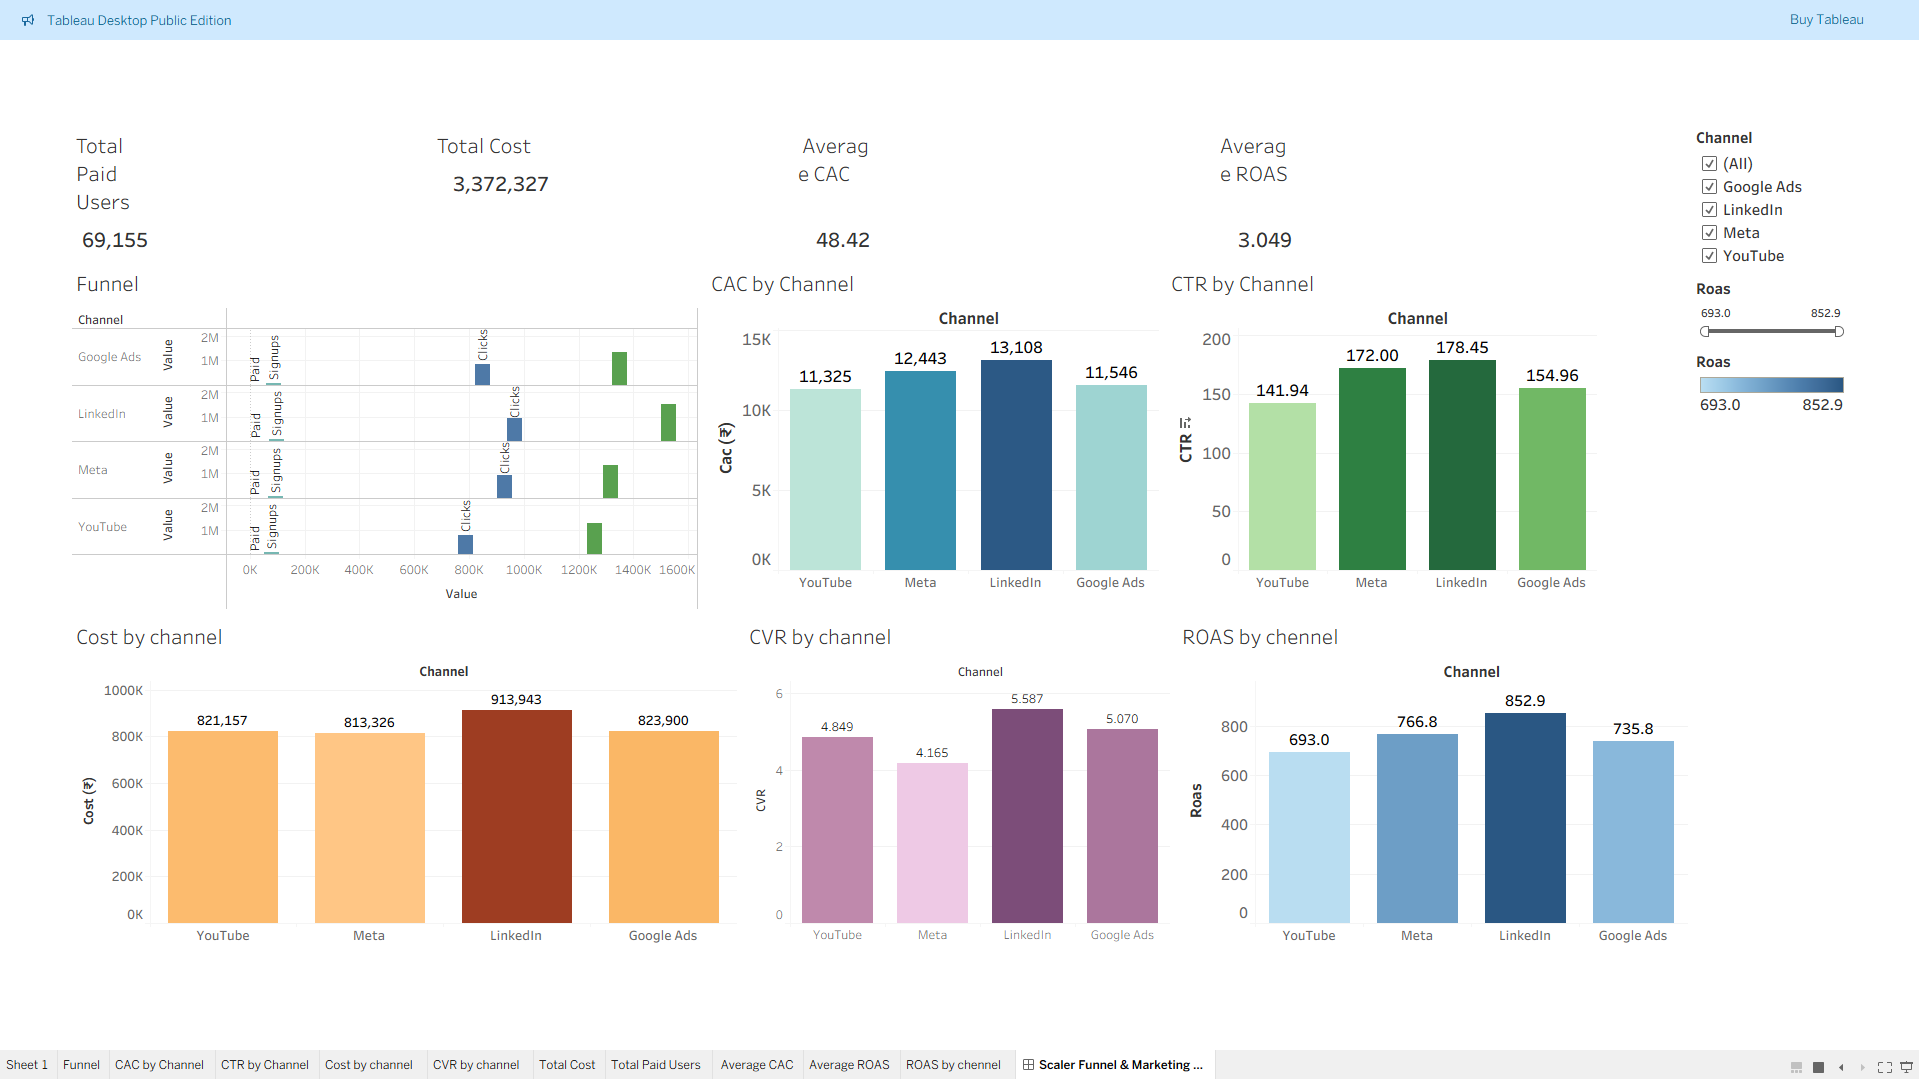

What the dashboard file says about the page in this screenshot:
{"tool":"tableau","page":{"name":"Scaler Funnel & Marketing Analytics Dashboard","canvas":[1000,1000],"units":"permille","ordinal":0},"visuals":[{"type":"worksheet","title":"Total Paid Users","mark":"Automatic","box":[4.7,9.3,199.3,160]},{"type":"worksheet","title":"Total Cost","mark":"Automatic","box":[204,9.3,199.3,160]},{"type":"worksheet","title":" Average CAC","mark":"Automatic","box":[403.3,9.3,233.4,160]},{"type":"worksheet","title":"Average ROAS","mark":"Automatic","box":[636.7,9.3,265,160]},{"type":"filter","title":"ROAS by chennel ","param":"[federated.195o4id0vjbwo1118oil50ntmcbx].[none:Channel:nk]","box":[901.7,9.3,93.6,176.4]},{"type":"worksheet","title":"Funnel","mark":"Bar","rows":["Channel"],"box":[4.7,169.4,371.6,410.6]},{"type":"worksheet","title":"CAC by Channel","mark":"Automatic","rows":["CAC (₹)"],"cols":["Channel"],"box":[376.2,169.4,269.2,410.6]},{"type":"worksheet","title":"CTR by Channel","mark":"Automatic","rows":["CTR"],"cols":["Channel"],"box":[645.4,169.4,256.3,410.6]},{"type":"filter","title":"ROAS by chennel ","param":"[federated.195o4id0vjbwo1118oil50ntmcbx].[sum:ROAS:qk]","box":[901.7,185.8,93.6,85.3]},{"type":"legend","title":"ROAS by chennel ","param":"[federated.195o4id0vjbwo1118oil50ntmcbx].[sum:ROAS:qk]","box":[901.7,271,93.6,85.3]},{"type":"worksheet","title":"Cost by channel ","mark":"Automatic","rows":["Cost (₹)"],"cols":["Channel"],"box":[4.7,580,371.5,410.7]},{"type":"worksheet","title":"CVR by channel ","mark":"Automatic","rows":["CVR"],"cols":["Channel"],"box":[376.2,580,253.4,410.7]},{"type":"worksheet","title":"ROAS by chennel ","mark":"Automatic","rows":["ROAS"],"cols":["Channel"],"box":[629.6,580,272.1,410.7]}]}

Visuals, with their boxes on the dashboard's canvas, which has no fixed pixel size, in thousandths of its width and height (x1, y1, x2, y2). These are canvas units, not pixel positions in the 1919x1079 screenshot, which may show the page scaled, cropped or inside an application window:
"Total Paid Users" worksheet: detection(5, 9, 204, 169)
"Total Cost" worksheet: detection(204, 9, 403, 169)
" Average CAC" worksheet: detection(403, 9, 637, 169)
"Average ROAS" worksheet: detection(637, 9, 902, 169)
"ROAS by chennel " filter: detection(902, 9, 995, 186)
"Funnel" worksheet (Bar marks): detection(5, 169, 376, 580)
"CAC by Channel" worksheet: detection(376, 169, 645, 580)
"CTR by Channel" worksheet: detection(645, 169, 902, 580)
"ROAS by chennel " filter: detection(902, 186, 995, 271)
"ROAS by chennel " legend: detection(902, 271, 995, 356)
"Cost by channel " worksheet: detection(5, 580, 376, 991)
"CVR by channel " worksheet: detection(376, 580, 630, 991)
"ROAS by chennel " worksheet: detection(630, 580, 902, 991)
